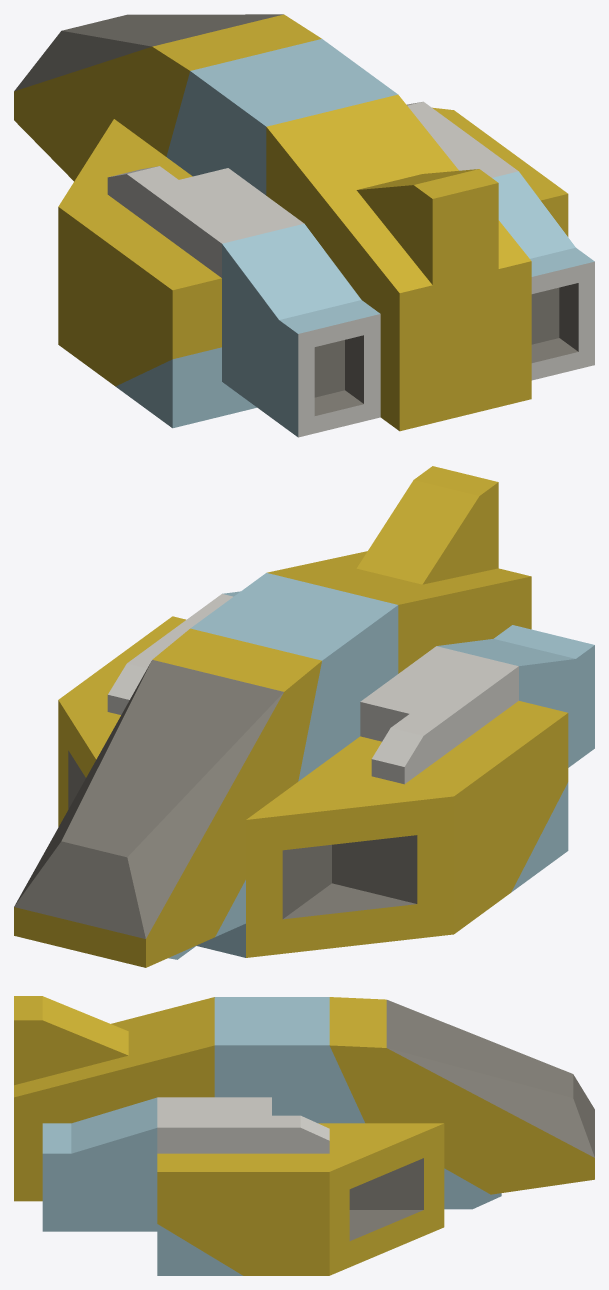
The model's file is cc0-craft-racer-lod1.glb.
The picture shows the model from 3 angles, top to bottom: view 1: azimuth 30°, elevation 25°; view 2: azimuth 150°, elevation 25°; view 3: azimuth 270°, elevation 25°; orthographic projection. The views are drawn at different scales.
Visible parts, largest first — view 1: part_0; view 2: part_0; view 3: part_0.
Boxes of the visible parts, bbox=[...] form: part_0: bbox=[14, 14, 594, 437]; part_0: bbox=[14, 466, 594, 967]; part_0: bbox=[14, 996, 594, 1275].
Size of the model in its own units: 1.2 by 0.75 by 2.03.
